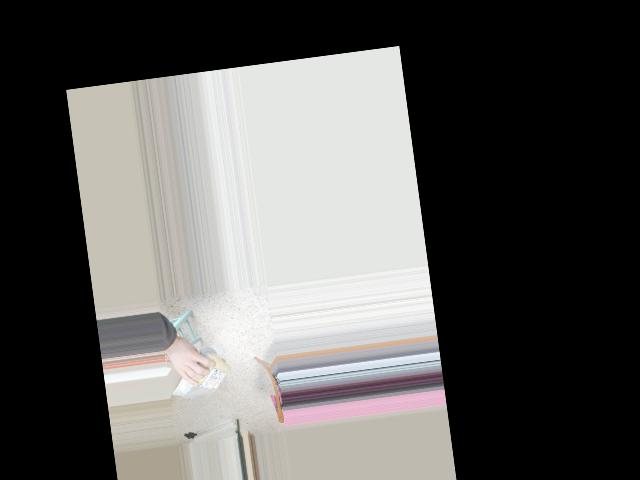cheese: (169, 349, 232, 400)
